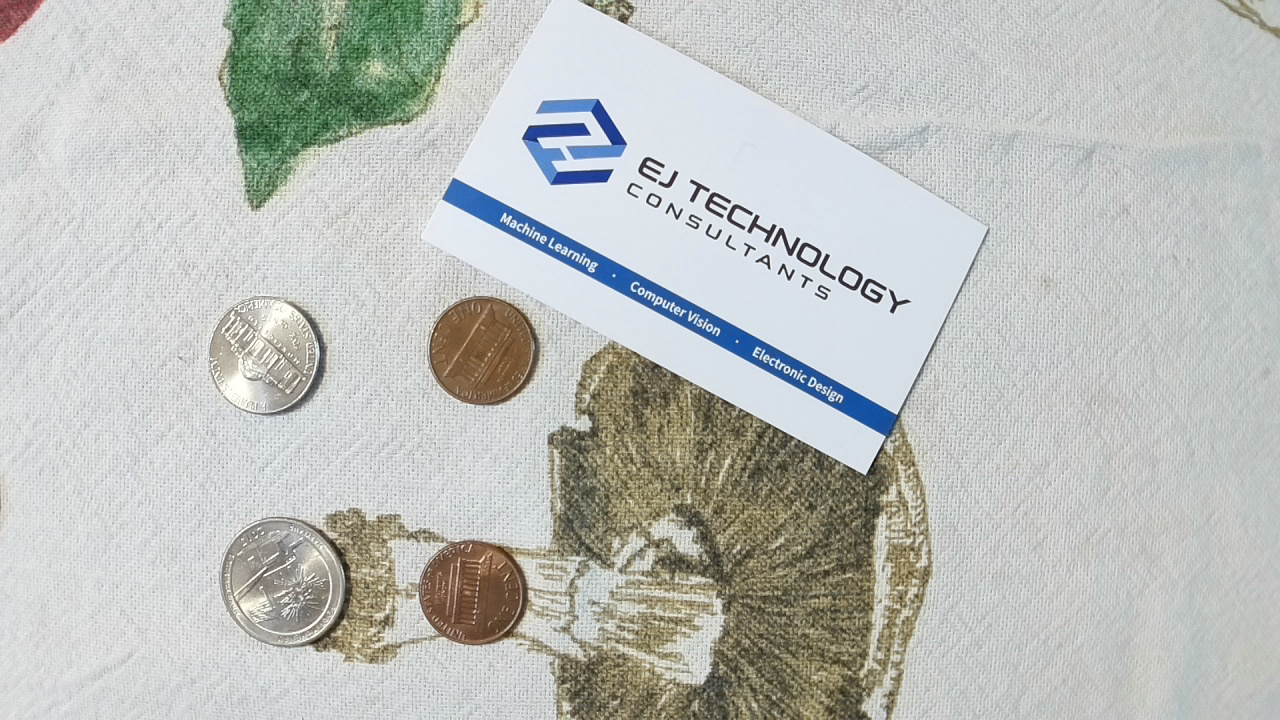nickel: (196, 290, 334, 420)
penny: (426, 294, 538, 406), (414, 537, 528, 645)
quarter: (217, 516, 348, 650)
